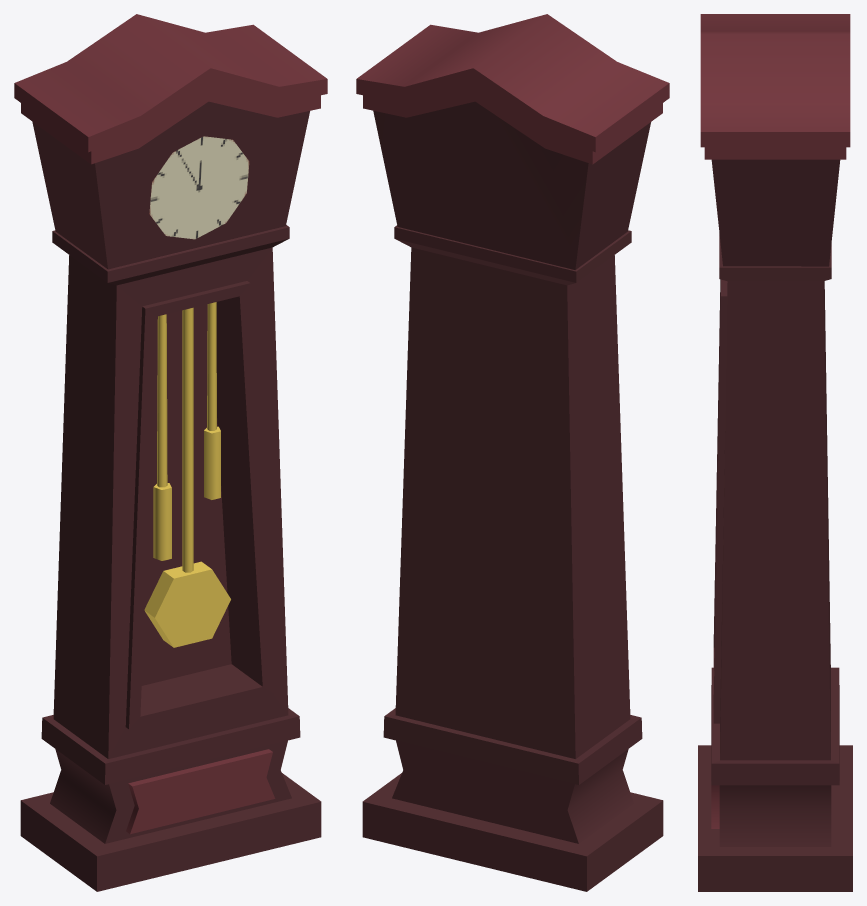
Rendered from SM_Clock_Tall_1_02.fbx.
3 views of the same model, side by side, from view 1: azimuth 30°, elevation 25°; view 2: azimuth 150°, elevation 25°; view 3: azimuth 270°, elevation 25° (orthographic).
Parts seen in each view (by area): view 1: SM_Clock_Tall_1_02; view 2: SM_Clock_Tall_1_02; view 3: SM_Clock_Tall_1_02.
Boxes of the visible parts, x1=… form: SM_Clock_Tall_1_02: x1=14, y1=14, x2=327, y2=891; SM_Clock_Tall_1_02: x1=356, y1=14, x2=669, y2=891; SM_Clock_Tall_1_02: x1=698, y1=14, x2=852, y2=891.
Bounding box in the file's own units: 77.18 × 245 × 42.85.
